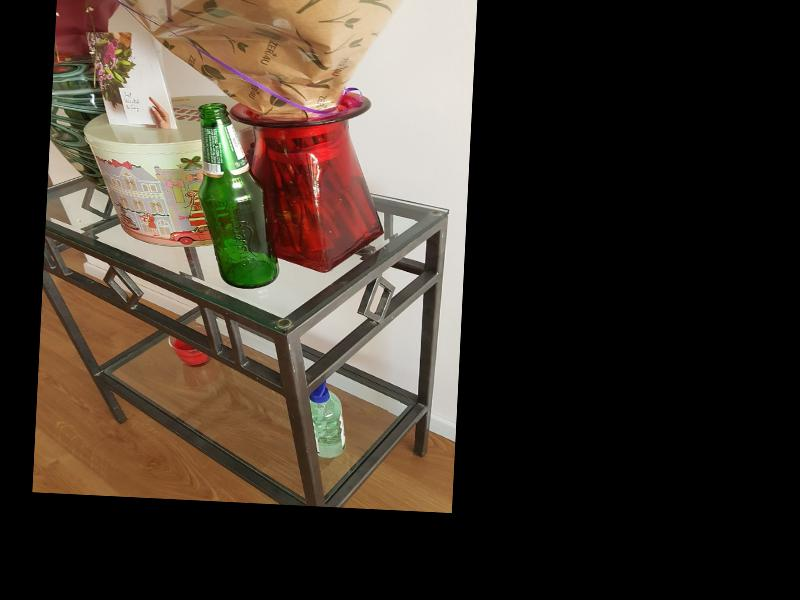Beer: (191, 101, 286, 291)
